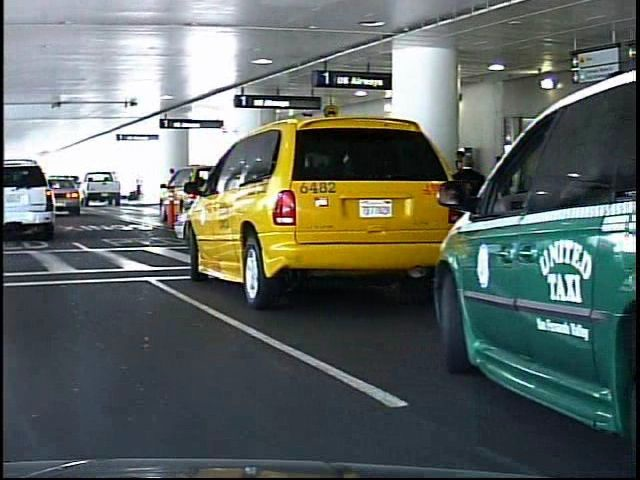person: (444, 149, 481, 272)
